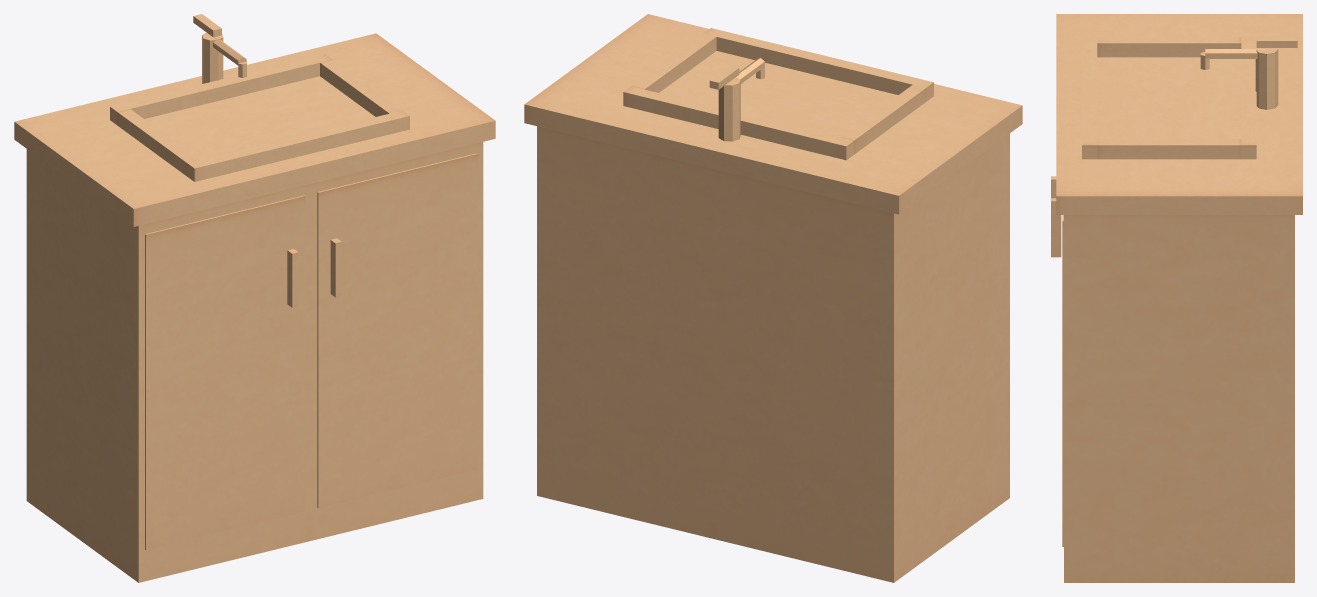
File: Bathroom_Sink.fbx
3 renders of one model, left to right at view 1: azimuth 30°, elevation 25°; view 2: azimuth 150°, elevation 25°; view 3: azimuth 270°, elevation 25°, orthographic. The views are drawn at different scales.
Visible parts, largest first — view 1: Bathroom_Sink; view 2: Bathroom_Sink; view 3: Bathroom_Sink.
Part boxes in pixels (x1,y1,x2,y2): Bathroom_Sink: (14,14,495,582); Bathroom_Sink: (524,14,1022,582); Bathroom_Sink: (1051,14,1302,582).
Size of the model in its own units: 0.84 by 0.9825 by 0.49.
